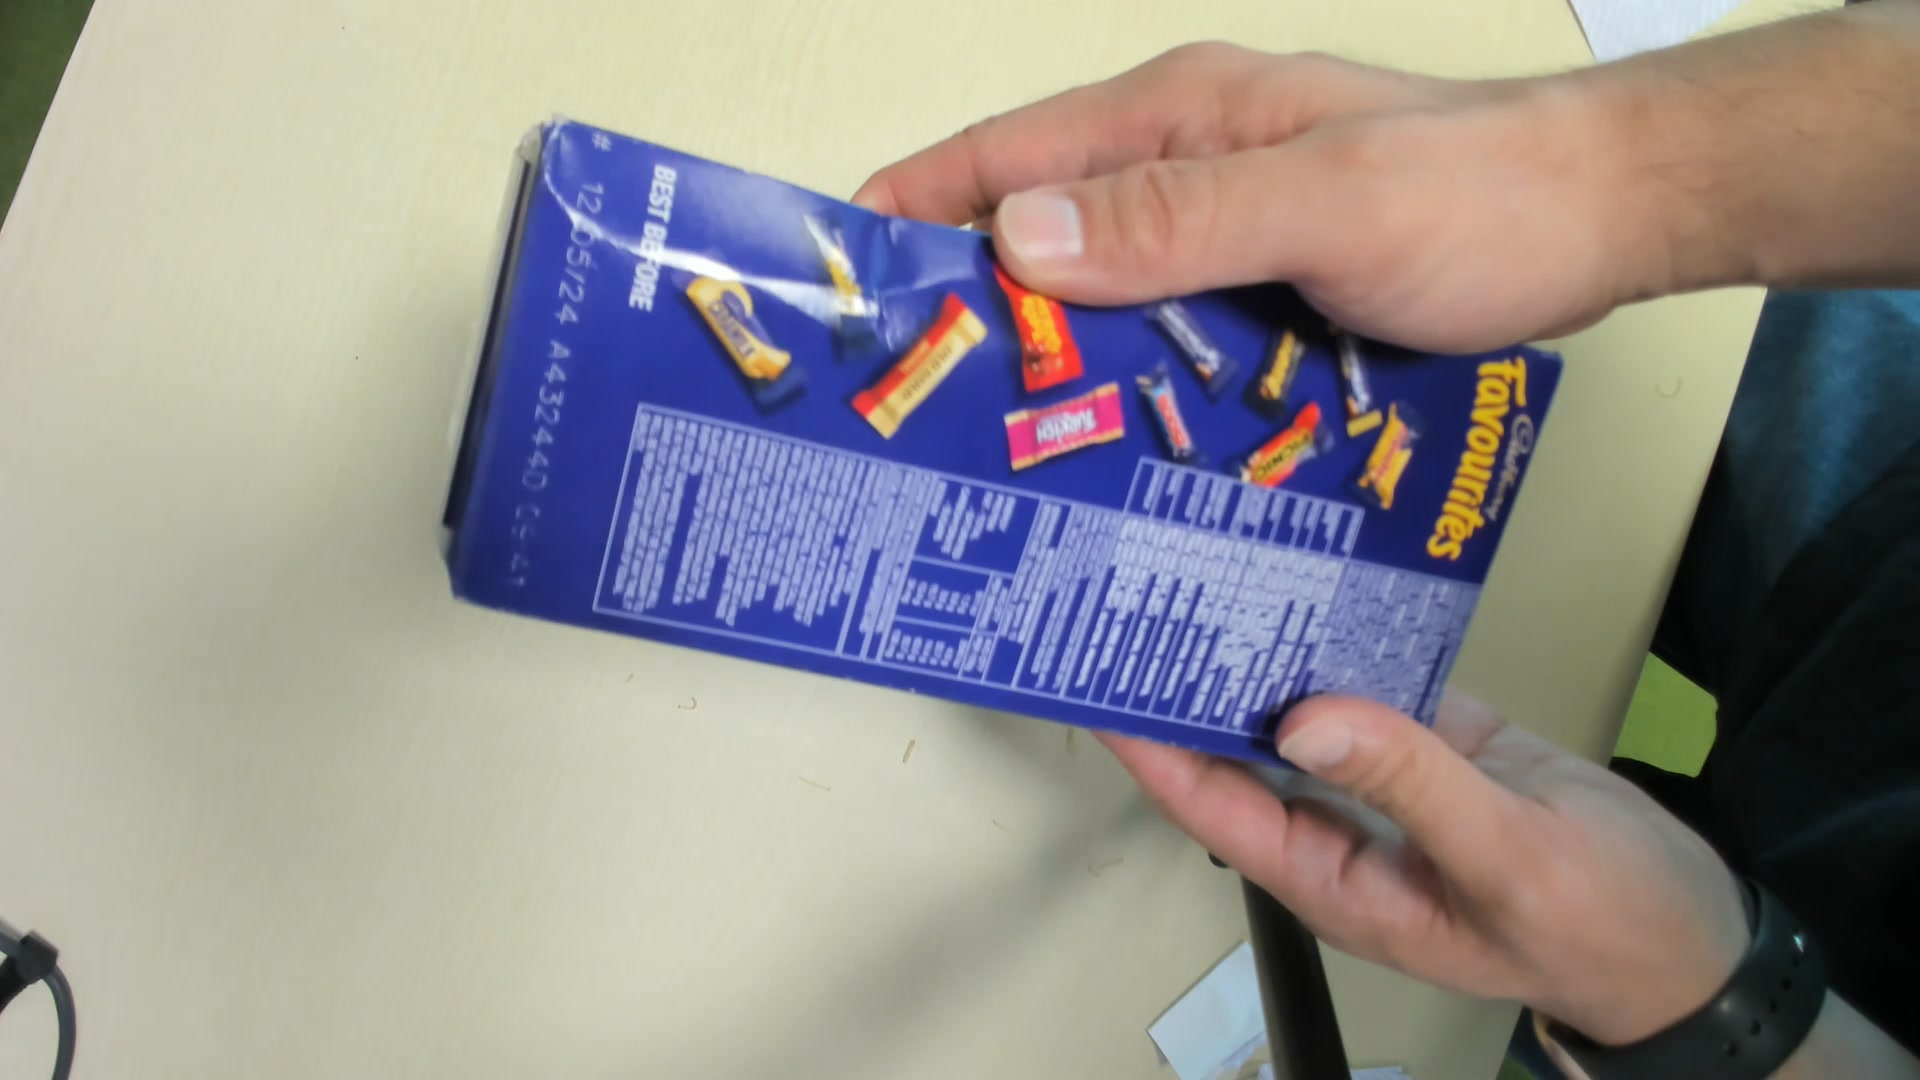SweetsChocolatesOthers_300-399g_NonHalal_Nonhealthy: (435, 116, 1567, 754)
